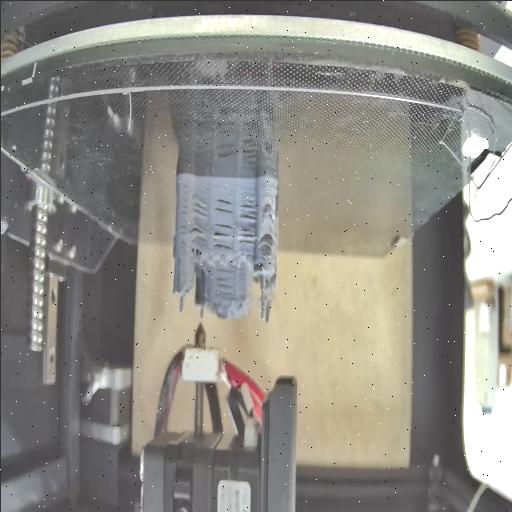cracks: (236, 194, 256, 248), (211, 268, 236, 296), (210, 222, 234, 250), (180, 184, 188, 245), (214, 192, 234, 214), (190, 221, 206, 245), (192, 195, 208, 219), (259, 231, 275, 254), (264, 200, 275, 226), (174, 254, 182, 270)
